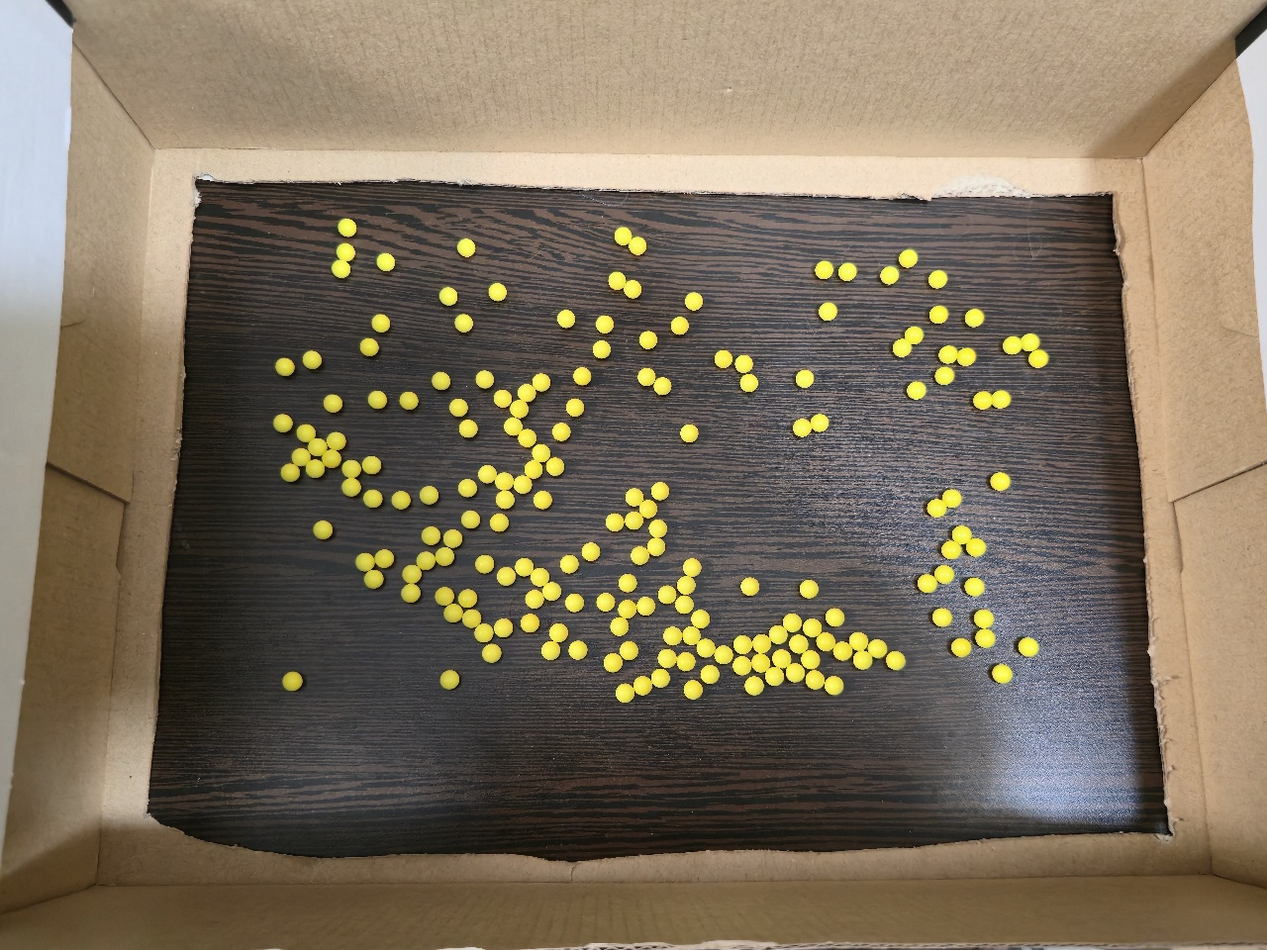yellow_bead: (897, 331, 920, 353), (1007, 337, 1035, 350), (978, 394, 1005, 405), (1023, 641, 1035, 653), (997, 669, 1009, 680), (969, 582, 981, 593), (995, 476, 1007, 487), (945, 545, 958, 555), (810, 675, 821, 686), (736, 660, 747, 671), (891, 655, 902, 666), (842, 266, 853, 277), (978, 614, 990, 624), (938, 570, 950, 580), (911, 386, 923, 396), (620, 688, 630, 699), (828, 681, 839, 691), (287, 676, 297, 687), (769, 671, 779, 682), (790, 668, 801, 678), (858, 654, 868, 665), (662, 653, 672, 664), (486, 648, 497, 658), (837, 646, 848, 656), (545, 645, 555, 656), (872, 644, 883, 654), (701, 643, 712, 653), (737, 640, 748, 650), (793, 639, 804, 649), (853, 637, 864, 647), (667, 631, 678, 641), (687, 630, 697, 641), (807, 623, 818, 633), (405, 588, 416, 598), (922, 579, 933, 589), (368, 574, 379, 584), (519, 562, 530, 572), (318, 524, 328, 535), (931, 504, 942, 514), (946, 494, 957, 504), (499, 476, 509, 487), (312, 442, 323, 452), (939, 371, 950, 381), (943, 349, 954, 359), (969, 313, 980, 323), (933, 310, 944, 320), (932, 274, 943, 284), (885, 270, 896, 280), (903, 253, 914, 263), (955, 643, 967, 652), (980, 633, 992, 642), (936, 613, 948, 622), (956, 530, 968, 539), (1032, 354, 1044, 363), (336, 262, 345, 274), (637, 681, 647, 691), (444, 675, 454, 685), (705, 670, 715, 680), (681, 657, 691, 667), (805, 655, 815, 665), (777, 654, 787, 664), (719, 650, 729, 660), (624, 646, 634, 656), (756, 639, 766, 649), (773, 630, 783, 640), (498, 623, 508, 633), (787, 618, 797, 628), (695, 614, 705, 624), (640, 602, 650, 612), (679, 600, 689, 610), (569, 598, 579, 608), (462, 594, 472, 604), (546, 587, 556, 597), (360, 557, 370, 567), (439, 551, 449, 561), (500, 494, 510, 504), (367, 494, 377, 504), (310, 464, 320, 474), (366, 460, 376, 470), (301, 428, 311, 438), (514, 404, 524, 414), (372, 395, 382, 405), (800, 374, 810, 384), (307, 355, 317, 365), (461, 242, 471, 252), (688, 685, 697, 696), (655, 673, 664, 684), (681, 580, 690, 591), (443, 291, 452, 302), (341, 247, 350, 258), (749, 682, 759, 691), (756, 658, 765, 668), (608, 658, 617, 668), (573, 645, 582, 655), (821, 637, 830, 647), (553, 628, 562, 638), (479, 628, 488, 638), (615, 621, 624, 631), (466, 614, 476, 623), (448, 609, 458, 618), (623, 605, 632, 615), (601, 598, 610, 608), (439, 592, 448, 602), (662, 590, 671, 600), (804, 585, 814, 594), (623, 579, 633, 588), (535, 572, 544, 582), (501, 572, 510, 582), (407, 569, 416, 579), (687, 563, 696, 573), (479, 560, 489, 569), (564, 559, 573, 569), (421, 556, 431, 565), (379, 554, 389, 563), (634, 551, 643, 561), (651, 542, 660, 552), (447, 534, 457, 543), (426, 531, 436, 540), (653, 524, 662, 534), (465, 515, 475, 524), (396, 495, 405, 505), (424, 491, 434, 500), (462, 484, 472, 493), (346, 482, 355, 492), (482, 469, 492, 478), (285, 468, 295, 477), (529, 464, 538, 474), (346, 464, 356, 473), (550, 462, 559, 472), (296, 453, 306, 462), (536, 448, 545, 458), (331, 436, 341, 445), (278, 419, 288, 428), (453, 404, 463, 413), (328, 399, 338, 408), (404, 397, 414, 406), (744, 378, 753, 388), (641, 372, 651, 381), (280, 362, 289, 372), (739, 359, 748, 369), (364, 342, 373, 352), (459, 319, 468, 329), (376, 319, 385, 329), (561, 314, 570, 324), (823, 307, 832, 317), (493, 287, 502, 297), (820, 265, 829, 275), (381, 257, 390, 267), (632, 240, 641, 250), (619, 231, 629, 240), (342, 223, 351, 233), (797, 424, 808, 432), (508, 422, 519, 430), (830, 613, 839, 622), (745, 582, 754, 591), (586, 547, 595, 556), (518, 480, 527, 489), (327, 454, 336, 463), (523, 433, 532, 442), (815, 419, 824, 428), (522, 389, 531, 398), (536, 378, 545, 387), (480, 375, 489, 384), (577, 372, 586, 381), (719, 354, 728, 363), (597, 344, 606, 353), (643, 335, 652, 344), (600, 320, 609, 329), (689, 297, 698, 306), (613, 276, 622, 285), (530, 595, 538, 605), (974, 543, 982, 553), (556, 428, 566, 436), (628, 284, 636, 294), (525, 619, 534, 627), (495, 519, 504, 527), (643, 505, 651, 514), (537, 496, 546, 504), (630, 493, 638, 502), (655, 487, 663, 496), (685, 428, 693, 437), (570, 404, 579, 412), (498, 394, 507, 402), (658, 382, 666, 391), (437, 377, 445, 386), (675, 321, 683, 330), (630, 517, 638, 525), (962, 353, 970, 361), (610, 519, 619, 526), (463, 425, 472, 432), (26, 323, 28, 324), (16, 351, 17, 352), (27, 341, 28, 342)
